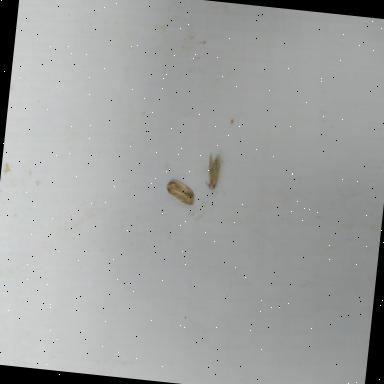pbw: (164, 182, 196, 207), (204, 152, 221, 192)
